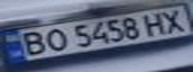4: (90, 19, 112, 45)
5: (69, 21, 93, 48), (106, 16, 127, 43)
8: (121, 15, 145, 40)
B: (12, 29, 51, 56)
H: (139, 10, 172, 37)
O: (39, 26, 69, 53)
X: (154, 7, 190, 34)
